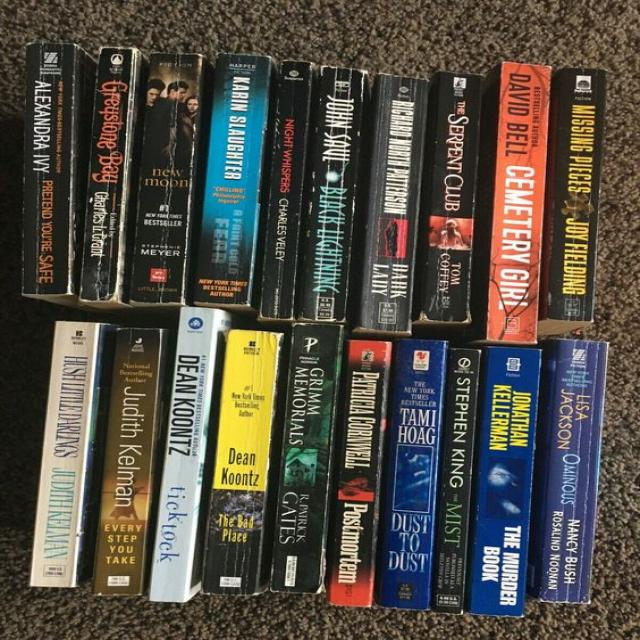book: (200, 330, 279, 595), (470, 346, 542, 616), (195, 53, 272, 305), (150, 308, 215, 602), (270, 323, 340, 594), (91, 328, 162, 595), (28, 321, 99, 587), (541, 339, 609, 603), (488, 62, 552, 342), (130, 53, 200, 304), (360, 74, 428, 332), (381, 340, 445, 609), (299, 66, 365, 321), (328, 340, 389, 606), (421, 71, 482, 322), (546, 69, 606, 322), (79, 48, 135, 302), (21, 43, 74, 294), (260, 60, 311, 318), (438, 349, 479, 614)
